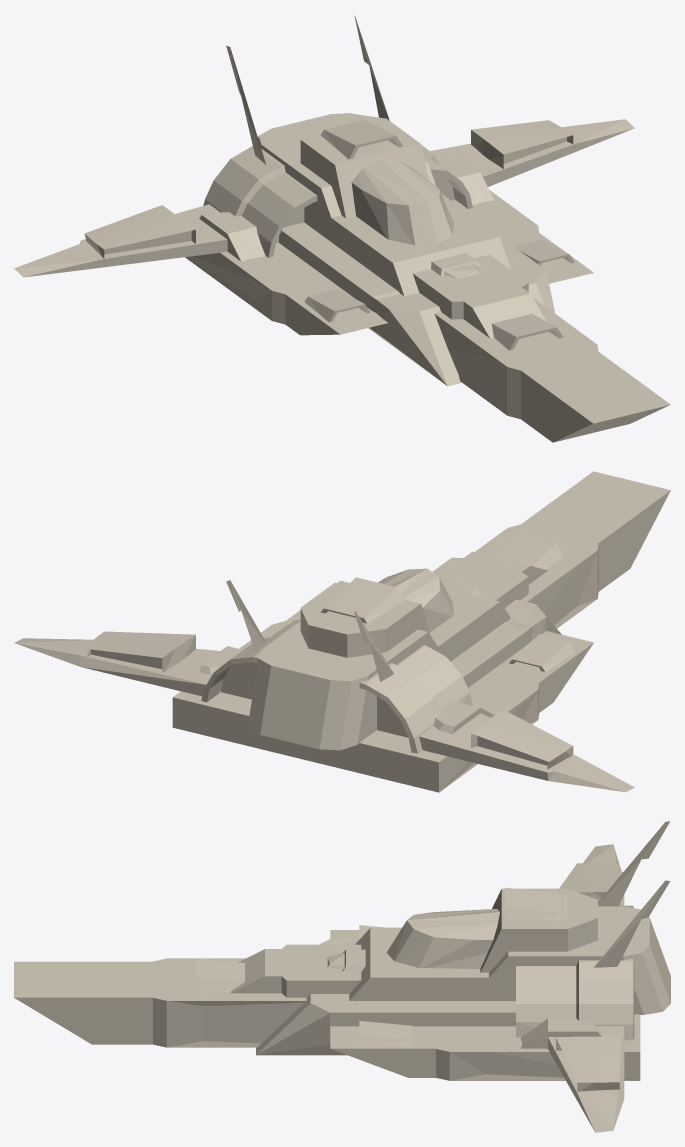
The model's file is ship_challenger.glb.
3 renders of one model, top to bottom at view 1: azimuth 30°, elevation 25°; view 2: azimuth 150°, elevation 25°; view 3: azimuth 270°, elevation 25°, orthographic. The views are drawn at different scales.
Visible parts, largest first — view 1: S_Challenger; view 2: S_Challenger; view 3: S_Challenger.
Part boxes in pixels (x1,y1,x2,y2): S_Challenger: (14,15,670,442); S_Challenger: (14,471,670,792); S_Challenger: (14,821,670,1132).
Bounding box in the file's own units: 10.5 × 3.02 × 10.18.
